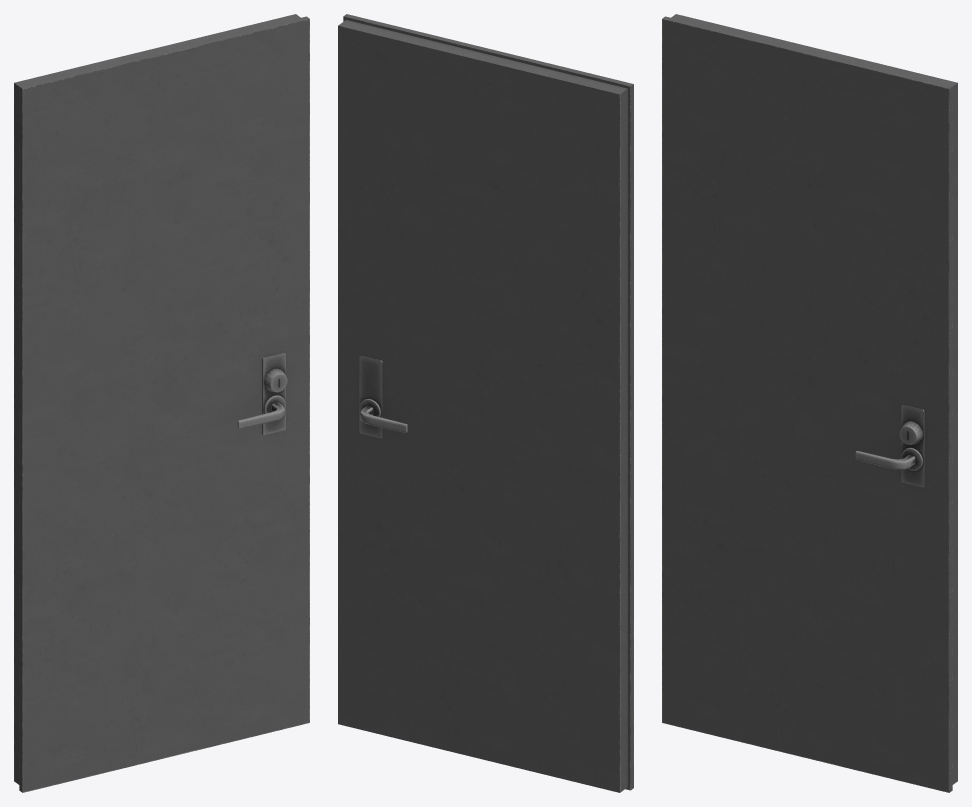
The model's file is Door_05.FBX.
3 renders of one model, left to right at view 1: azimuth 30°, elevation 25°; view 2: azimuth 150°, elevation 25°; view 3: azimuth 330°, elevation 25°, orthographic.
Parts seen in each view (by area): view 1: Door_05; view 2: Door_05; view 3: Door_05.
Boxes of the visible parts, <box> form: Door_05: <box>14,14,309,792</box>; Door_05: <box>338,14,633,792</box>; Door_05: <box>662,14,957,792</box>.
Size of the model in its own units: 76 by 178 by 16.17.
